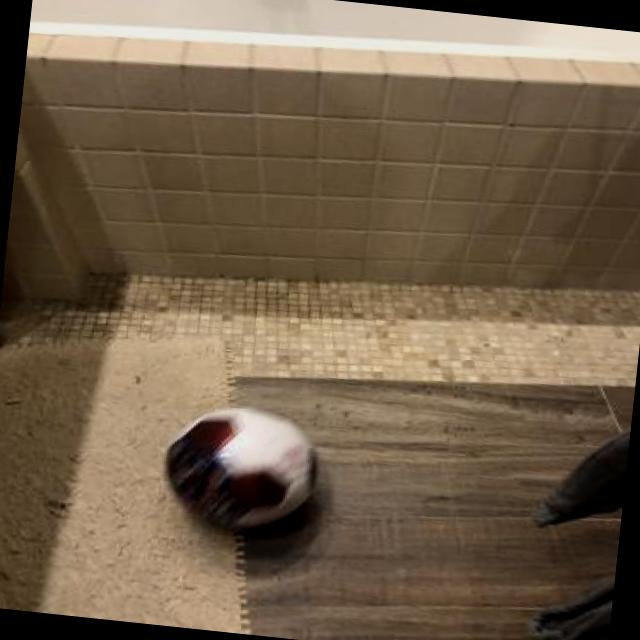Soccer Ball: (154, 398, 324, 534)
